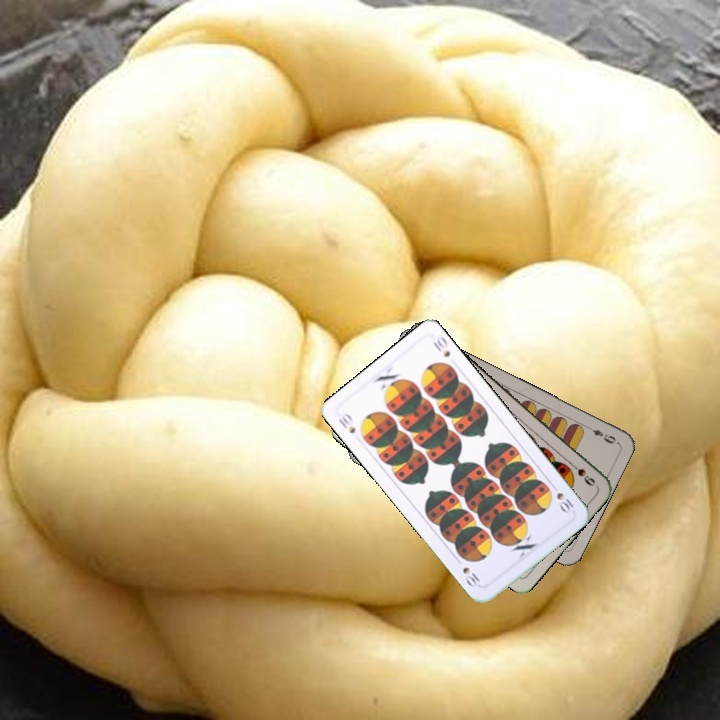E9: (582, 422, 619, 446)
S10: (547, 480, 577, 516), (334, 409, 358, 436)
S9: (565, 458, 598, 489)
